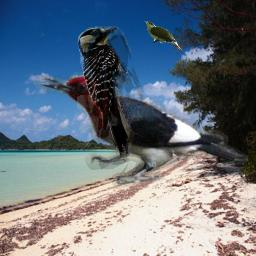Cuckoo: (144, 21, 184, 51)
Woodpecker: (33, 70, 248, 190), (77, 26, 143, 161)
